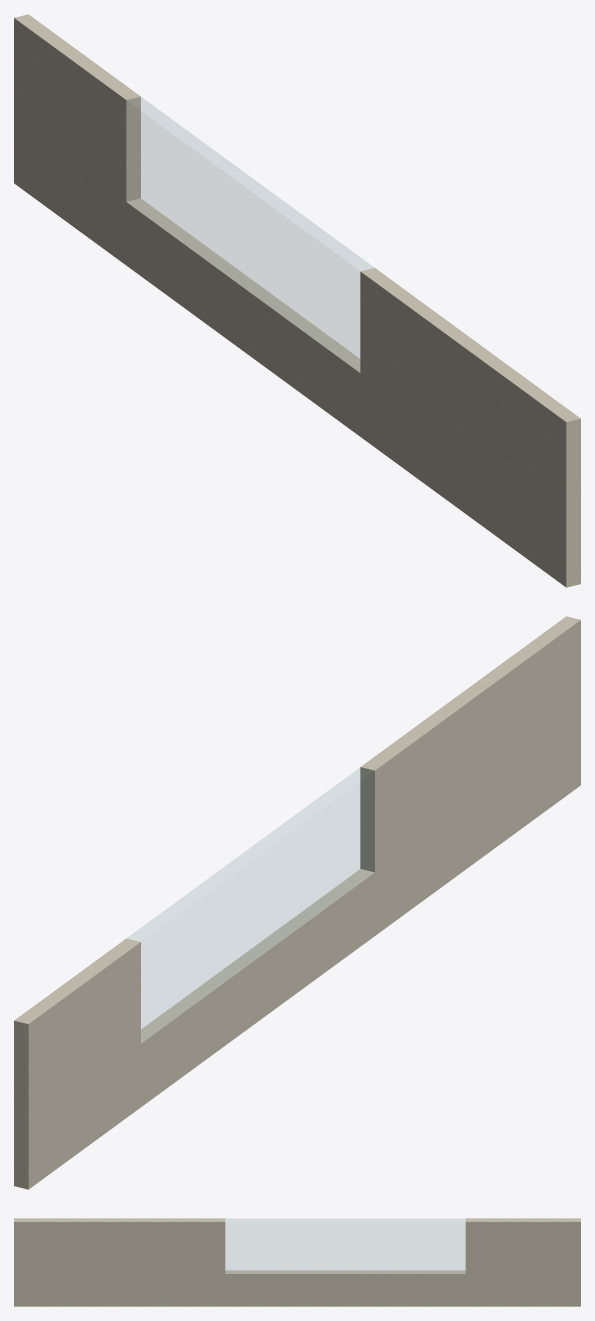
Rendered from D04_COMMONS_GARDEN_OUTLOOK_r001.glb.
The picture shows the model from 3 angles, top to bottom: view 1: azimuth 30°, elevation 25°; view 2: azimuth 150°, elevation 25°; view 3: azimuth 270°, elevation 25°; orthographic projection. The views are drawn at different scales.
Parts seen in each view (by area): view 1: D04GO_PrivacySuccessor_1, D04GO_GardenLowerGlass, D04GO_PrivacySuccessor_0, D04GO_PrivacySuccessor_2; view 2: D04GO_PrivacySuccessor_1, D04GO_GardenLowerGlass, D04GO_PrivacySuccessor_0, D04GO_PrivacySuccessor_2; view 3: D04GO_PrivacySuccessor_1, D04GO_GardenLowerGlass, D04GO_PrivacySuccessor_0, D04GO_PrivacySuccessor_2.
Boxes of the visible parts, box(x1,y1,x2,y2) form: D04GO_PrivacySuccessor_1: box(360, 268, 580, 587); D04GO_GardenLowerGlass: box(126, 97, 373, 371); D04GO_PrivacySuccessor_0: box(14, 14, 140, 264); D04GO_PrivacySuccessor_2: box(126, 198, 360, 436); D04GO_PrivacySuccessor_1: box(360, 616, 580, 935); D04GO_GardenLowerGlass: box(127, 768, 374, 1042); D04GO_PrivacySuccessor_0: box(14, 938, 140, 1189); D04GO_PrivacySuccessor_2: box(141, 869, 374, 1106); D04GO_PrivacySuccessor_1: box(14, 1218, 225, 1306); D04GO_GardenLowerGlass: box(225, 1218, 465, 1273); D04GO_PrivacySuccessor_0: box(465, 1218, 580, 1306); D04GO_PrivacySuccessor_2: box(225, 1270, 465, 1306).
Bounding box in the file's own units: 0.18 × 1.95 × 11.8.
2 materials, 1 textured.
